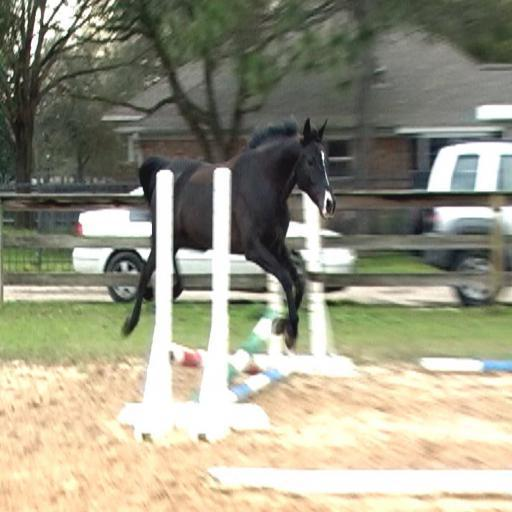horse: (118, 116, 338, 354)
